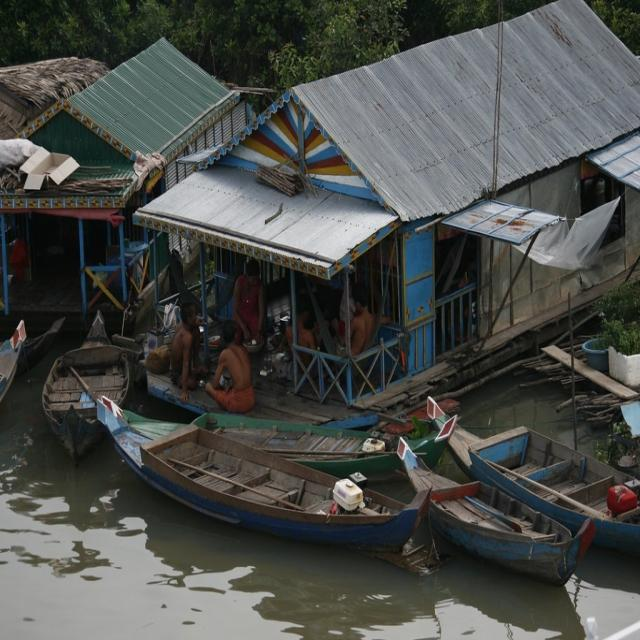boat: (83, 399, 426, 545), (46, 333, 128, 455)
